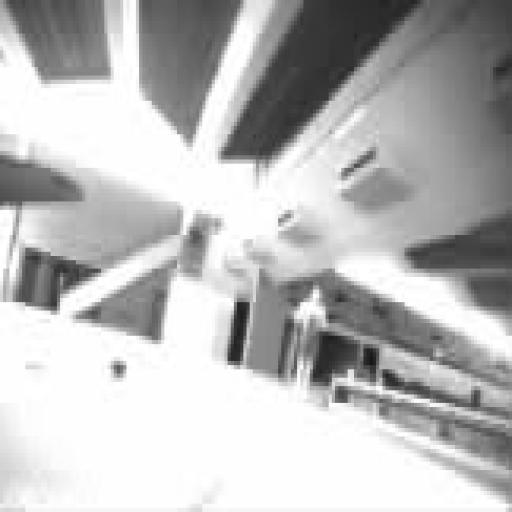human: (294, 286, 325, 390)
